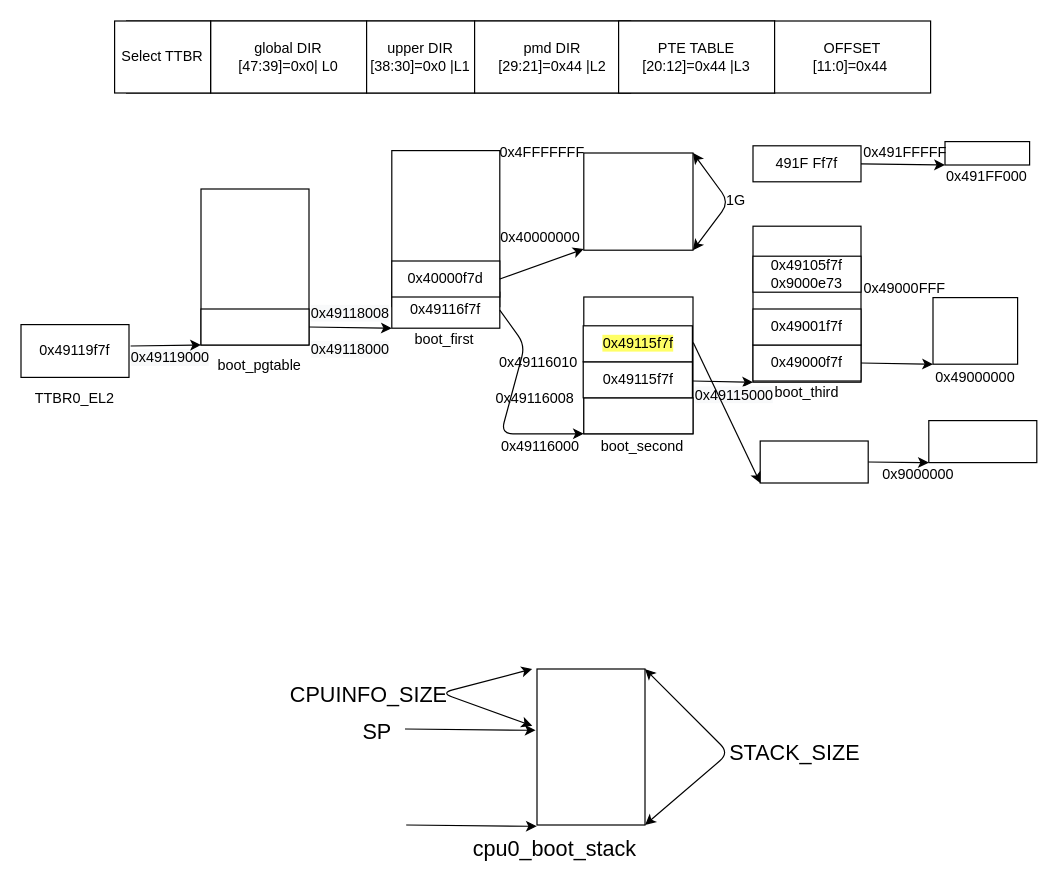
This 1058x883 diagram has some shape labels left out. Each missing label, with the box of its shape:
0x49118f7f: (200, 308, 309, 345)
0x9000e73: (759, 440, 868, 483)
